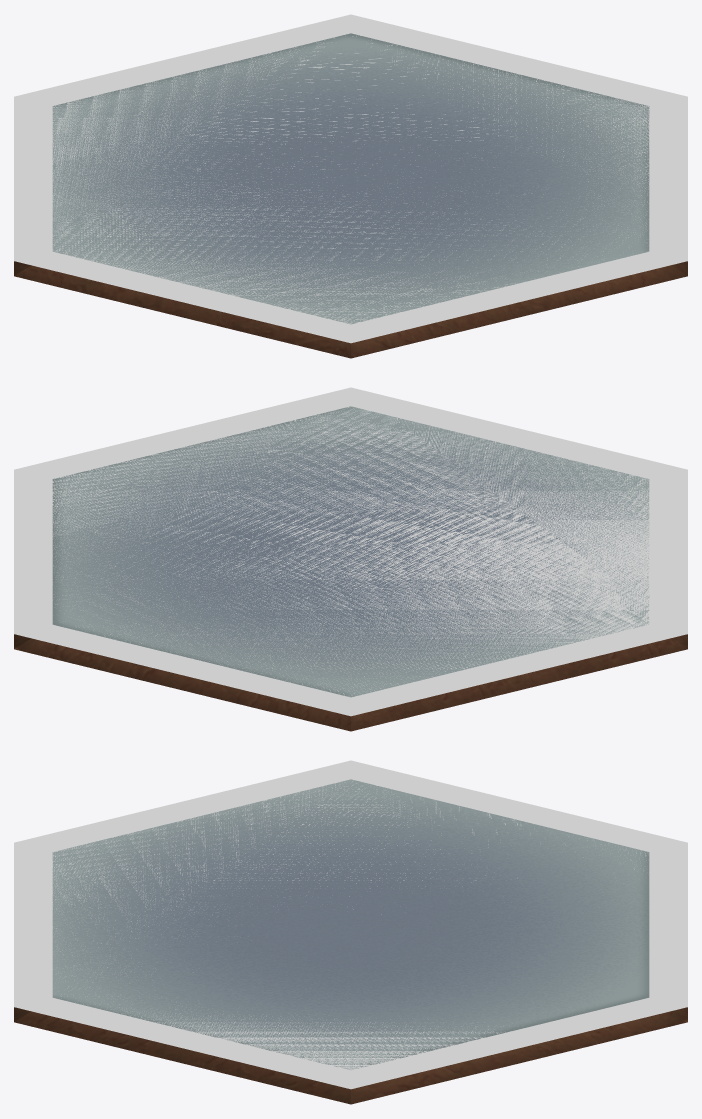
The model's file is pds-trap-central.glb.
3 views of the same model, one above another, from view 1: azimuth 30°, elevation 25°; view 2: azimuth 150°, elevation 25°; view 3: azimuth 270°, elevation 25° (orthographic).
Parts seen in each view (by area): view 1: PDS-trap-central, PDS-trap-central-COL; view 2: PDS-trap-central, PDS-trap-central-COL; view 3: PDS-trap-central, PDS-trap-central-COL.
Boxes of the visible parts, box(x1,y1,x2,y2) form: PDS-trap-central: box(14, 33, 687, 358); PDS-trap-central-COL: box(14, 14, 687, 343); PDS-trap-central: box(14, 406, 687, 731); PDS-trap-central-COL: box(14, 387, 687, 716); PDS-trap-central: box(14, 779, 687, 1104); PDS-trap-central-COL: box(14, 760, 687, 1089).
Size of the model in its own units: 19.29 by 0.4153 by 16.7.
1 material, 1 textured.
